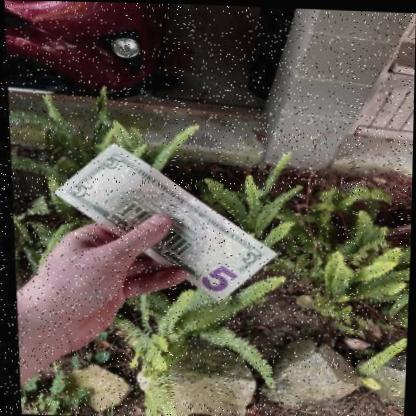five-back: (52, 142, 275, 301)
